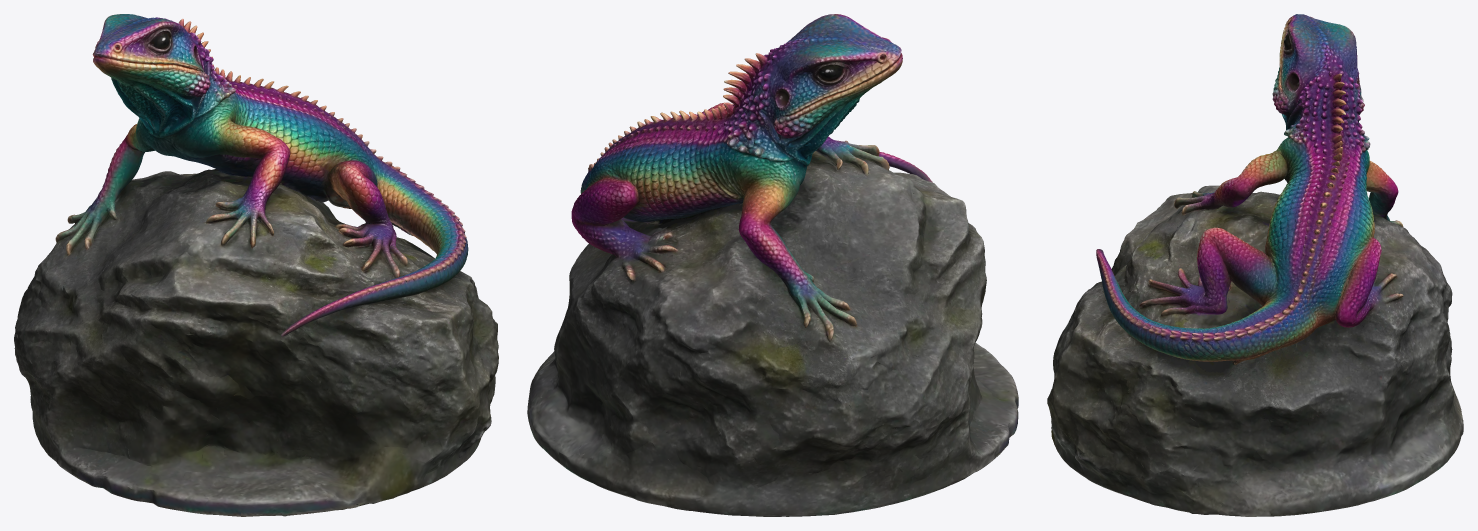
The model's file is gecko.glb.
The picture shows the model from 3 angles, left to right: view 1: azimuth 30°, elevation 25°; view 2: azimuth 150°, elevation 25°; view 3: azimuth 270°, elevation 25°; orthographic projection. The views are drawn at different scales.
Parts seen in each view (by area): view 1: output_unwrapped; view 2: output_unwrapped; view 3: output_unwrapped.
Part boxes in pixels (box(x1,y1,x2,y2)): output_unwrapped: box(14, 14, 498, 516); output_unwrapped: box(527, 14, 1018, 516); output_unwrapped: box(1047, 14, 1463, 516).
Bounding box in the file's own units: 1.89 × 1.85 × 1.9.
Materials: 1 (1 with a texture image).
